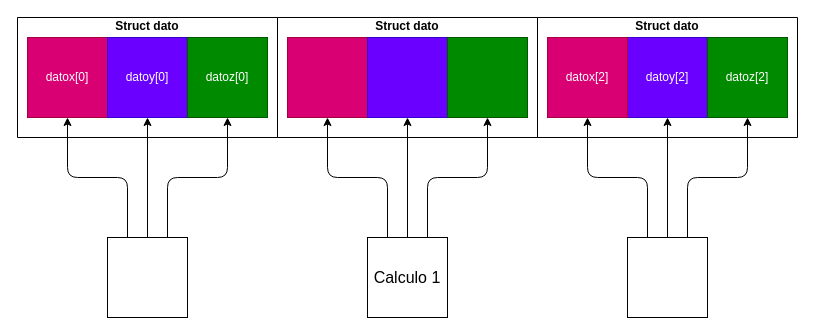
Some shapes in this 815 by 335 pixel diagram are drawn without their labels. The shapes that lost their labels are listed below. From the top down, each one's centre as x and y in pixels, then its label:
At point 327,77: "datox[1]".
At point 407,77: "datoy[1]".
At point 487,77: "datoz[1]".
At point 147,277: "Calculo 0".
At point 667,277: "Calculo 2".
